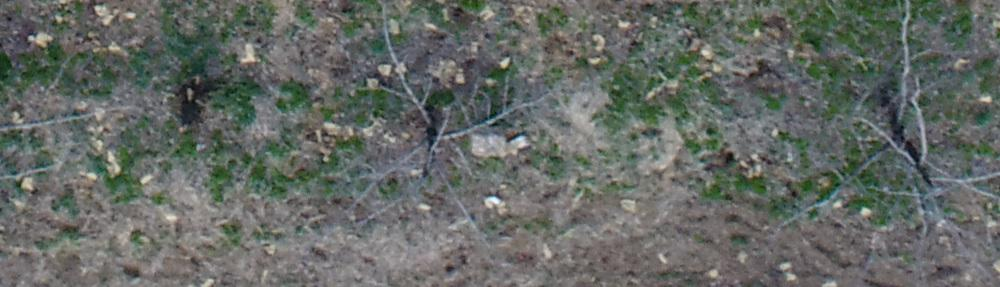apple: (765, 10, 990, 276), (323, 10, 564, 257)
